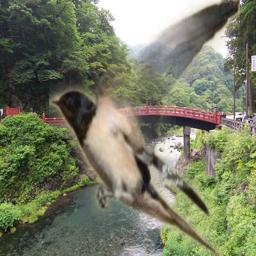Swallow: (49, 0, 240, 256)
